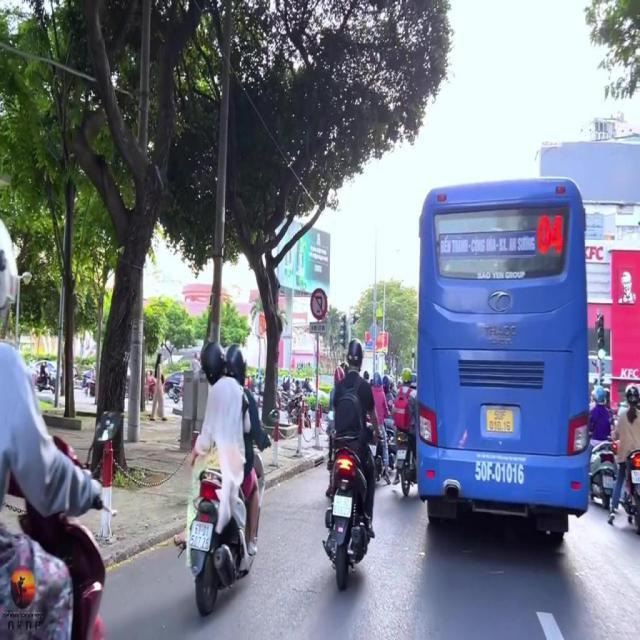123a-cam-re-trai: (309, 288, 327, 320)
